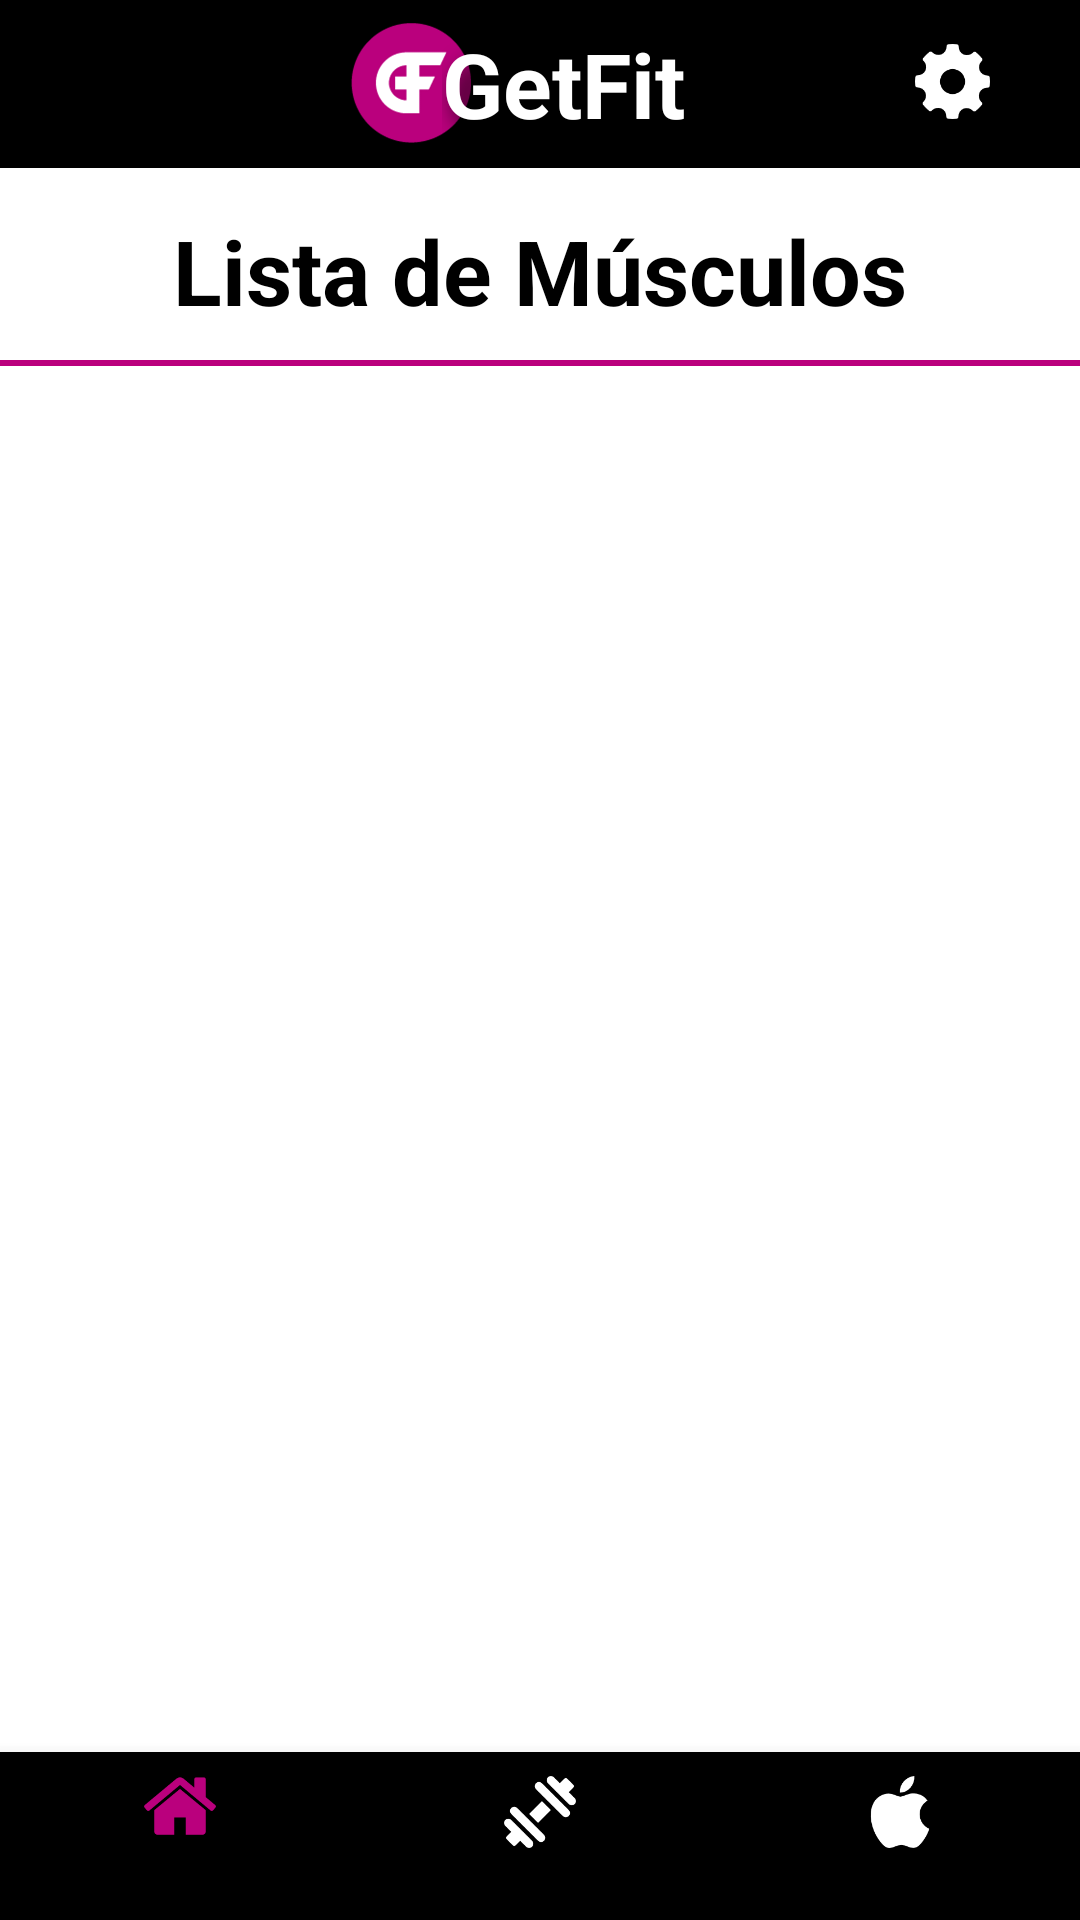

Icon click points for this 1080px x 1920px phone screenshot, format [x,y]:
ajustes: [952,81]
